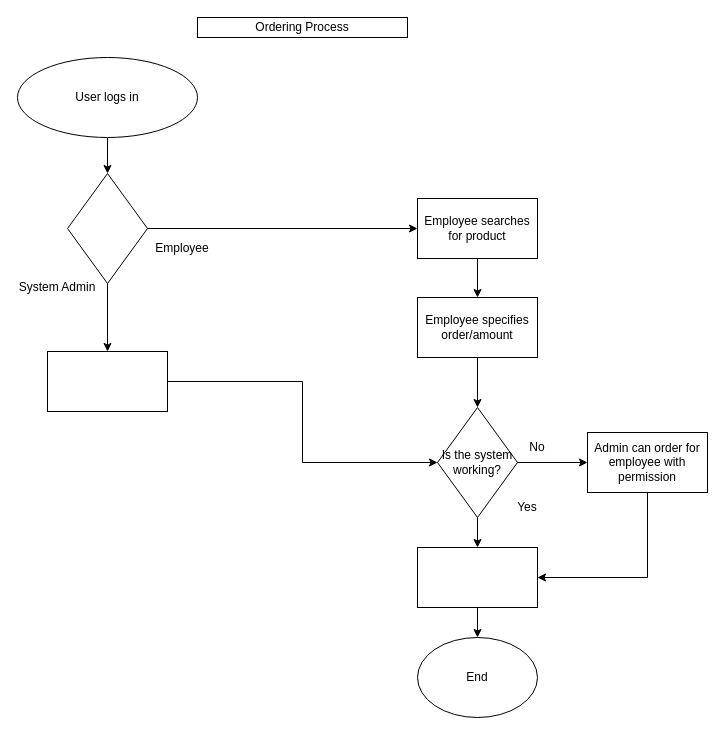
Some shapes in this 725 by 735 pixel diagram are drawn without their labels. Here are the shapes that lost their labels. From the top down, the centre of each, then its label:
At pixel 107 228: "Who is the user?".
At pixel 107 381: "The Admin doesn't usually order products".
At pixel 477 577: "Ordering is finished".
